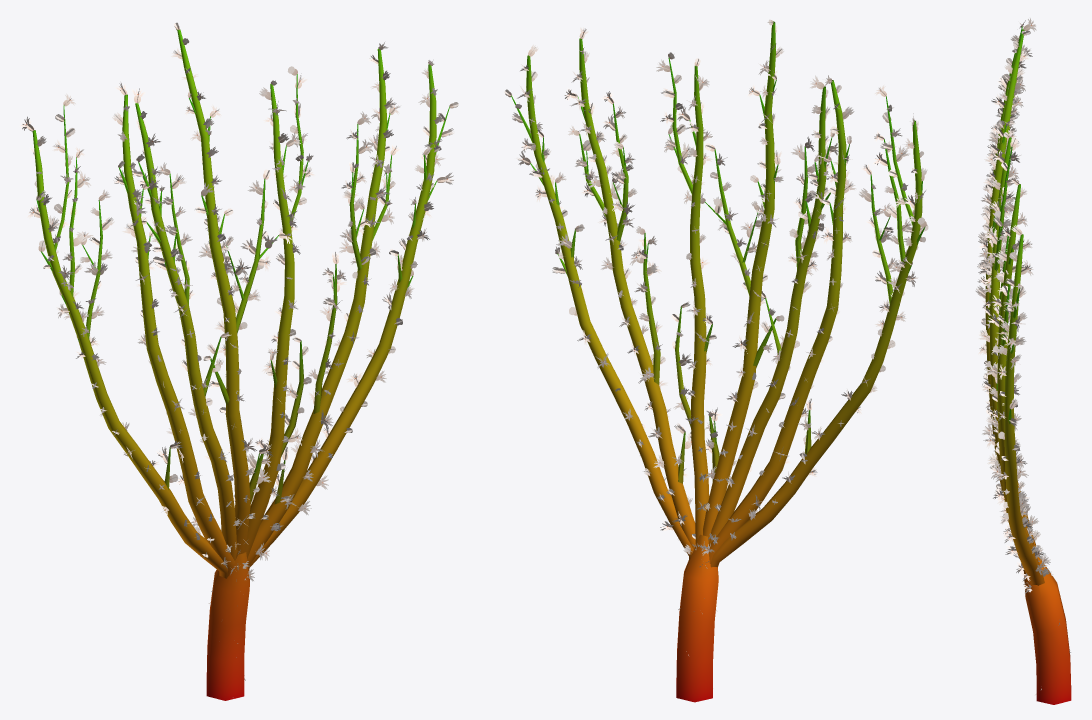
Rendered from SM_BambooFan_C.fbx.
The picture shows the model from 3 angles, left to right: view 1: azimuth 30°, elevation 25°; view 2: azimuth 150°, elevation 25°; view 3: azimuth 270°, elevation 25°; orthographic projection. The views are drawn at different scales.
Parts seen in each view (by area): view 1: MSH_BambooFan_C_LOD0; view 2: MSH_BambooFan_C_LOD0; view 3: MSH_BambooFan_C_LOD0.
Part boxes in pixels (box(x1,y1,x2,y2)): MSH_BambooFan_C_LOD0: box(19, 22, 458, 700); MSH_BambooFan_C_LOD0: box(504, 19, 928, 702); MSH_BambooFan_C_LOD0: box(975, 18, 1071, 704).
Size of what is drawn, in the model's own units: 0.612 by 0.9381 by 0.1424.
